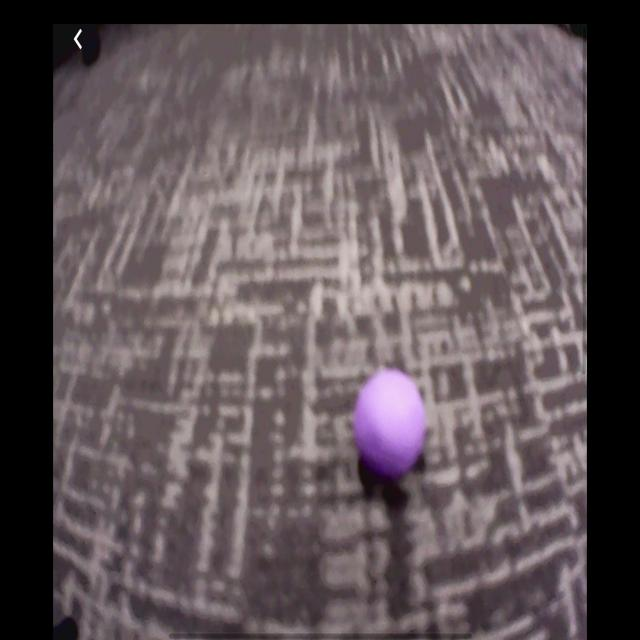ball: (359, 371, 426, 473)
